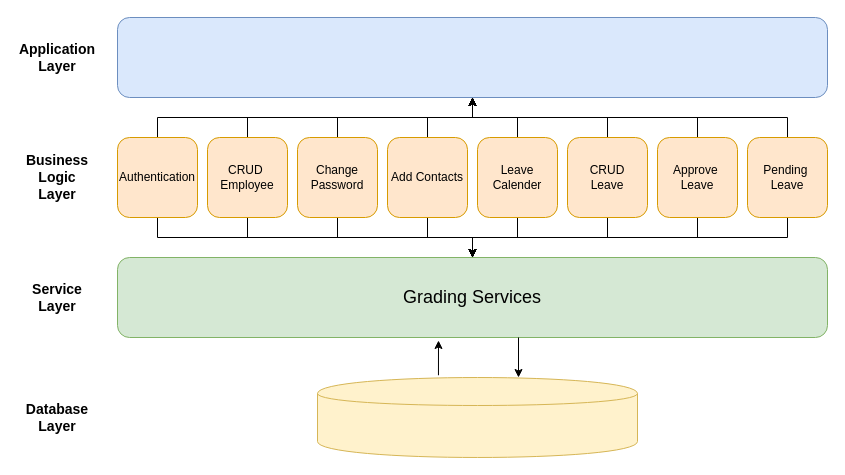
This 845x475 diagram has some shape labels left out. The centre of each missing label's shape, as x and y in pixels:
"Relational Database" belongs at (477,417).
"Web Base UI" belongs at (472,57).
